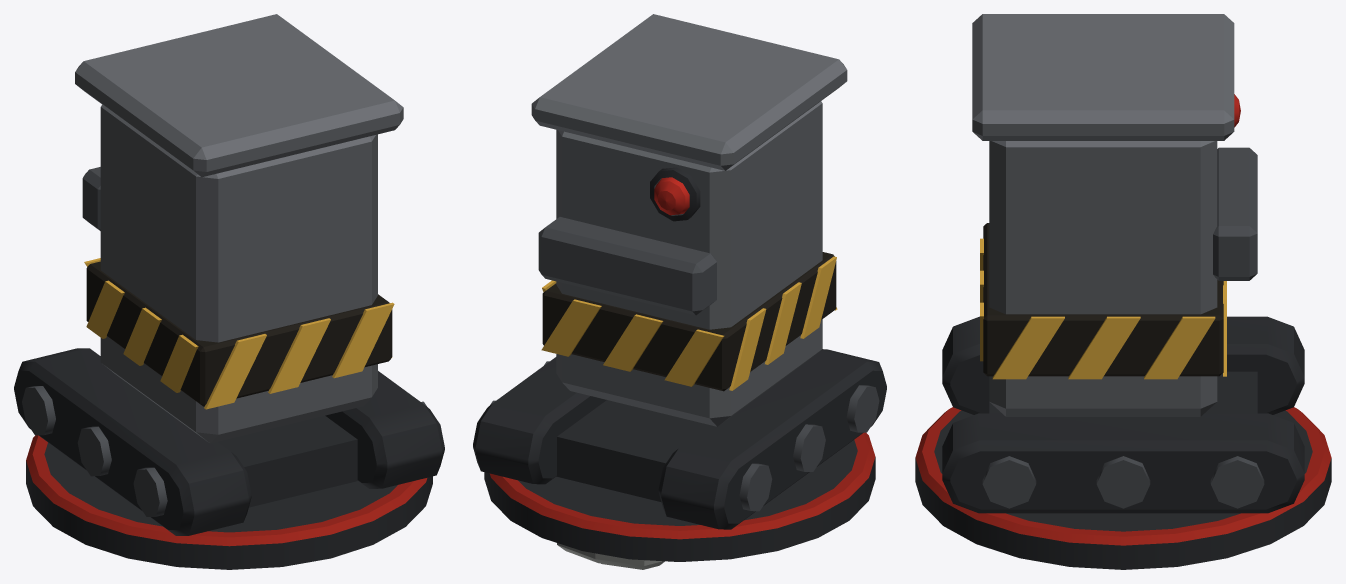
File: Locker.obj
3 renders of one model, left to right at view 1: azimuth 30°, elevation 25°; view 2: azimuth 150°, elevation 25°; view 3: azimuth 270°, elevation 25°, orthographic. The views are drawn at different scales.
Parts seen in each view (by area): view 1: Body; view 2: Body, JawL; view 3: Body.
Part boxes in pixels (box(x1,y1,x2,y2)): Body: box(14, 14, 444, 569); Body: box(473, 14, 886, 561); JawL: box(595, 553, 664, 569); Body: box(915, 14, 1331, 569).
Bounding box in the file's own units: 0.62 × 0.735 × 0.62.
